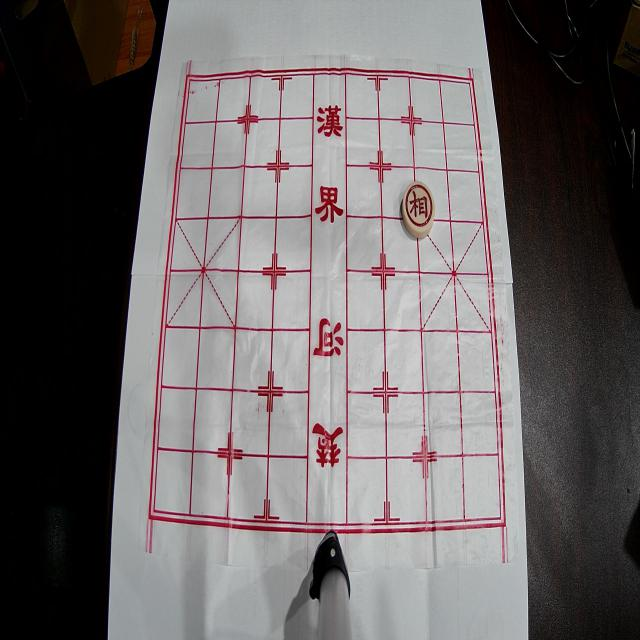red-elephant: (402, 181, 435, 238)
